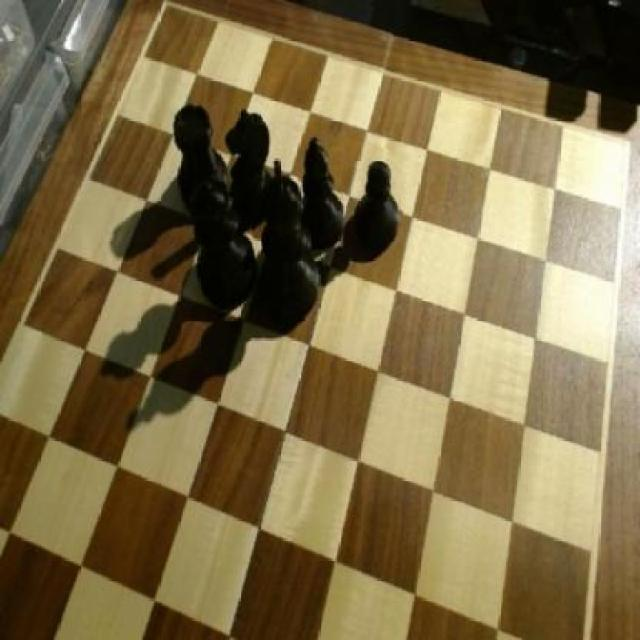bishop: (298, 133, 347, 250)
black-bishop: (252, 157, 323, 319)
black-king: (221, 104, 274, 220)
black-knight: (351, 159, 403, 253)
black-pawn: (186, 174, 262, 307)
black-queen: (171, 98, 228, 212)
